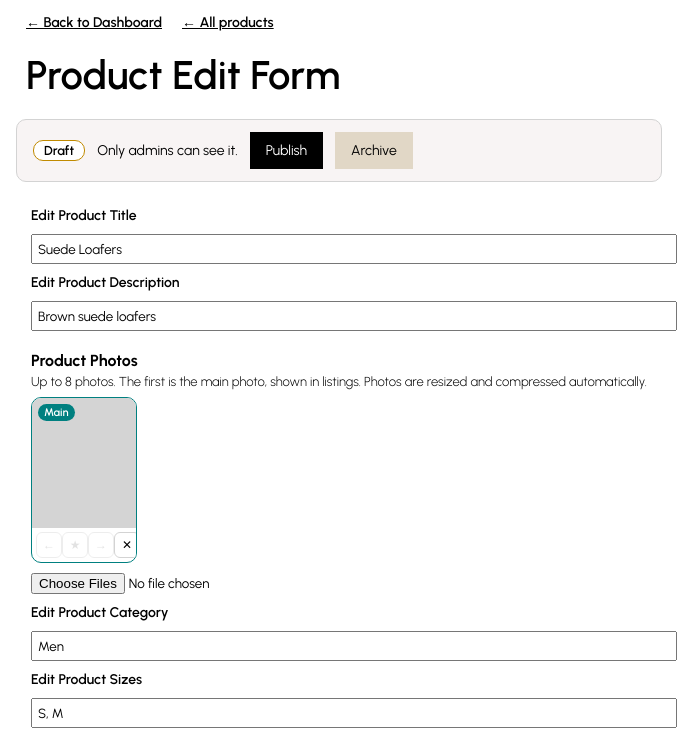
Test: AdminEditProduct › publishes a draft, and archives after confirming
Check: the field with id "title" holds "Suede Loafers", box [31,234,677,264]
Check: the element named "Product status" shows "Draft", box [44,143,74,158]
What coordinates should you click on to do the following:
click the button "Publish"
I would click on:
 (286, 150)
Its box is [250,132,323,169].
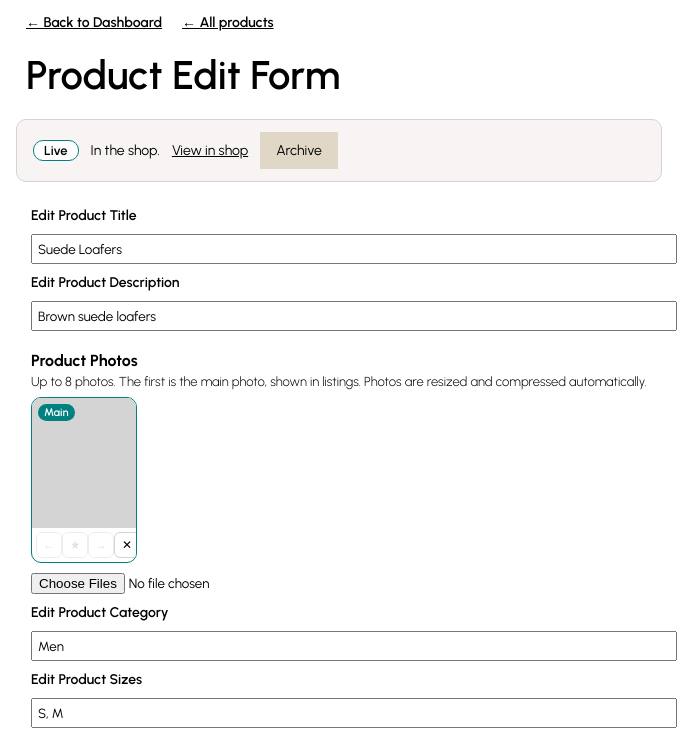
Check: the element named "Product status" shows "In the shop.", box [91,142,160,159]
What coordinates should you click on to do the following:
click the button "Archive"
I would click on:
 (299, 150)
Its box is [260,132,338,169].
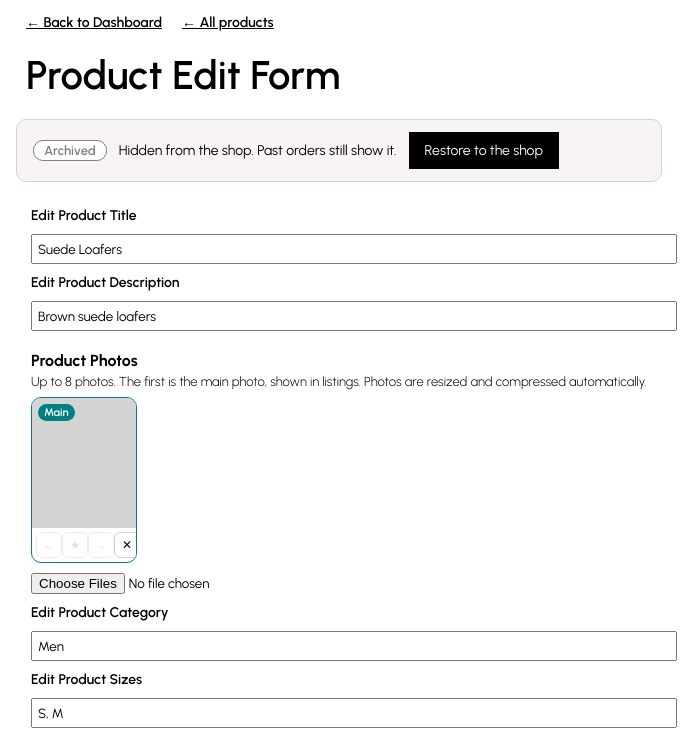
Check: the element named "Product status" shows "Archived", box [44,143,96,158]
Check: the button "Restore to the shop" is shown, box [409,132,559,169]
